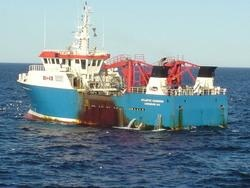Cargoship: (13, 2, 229, 133)
